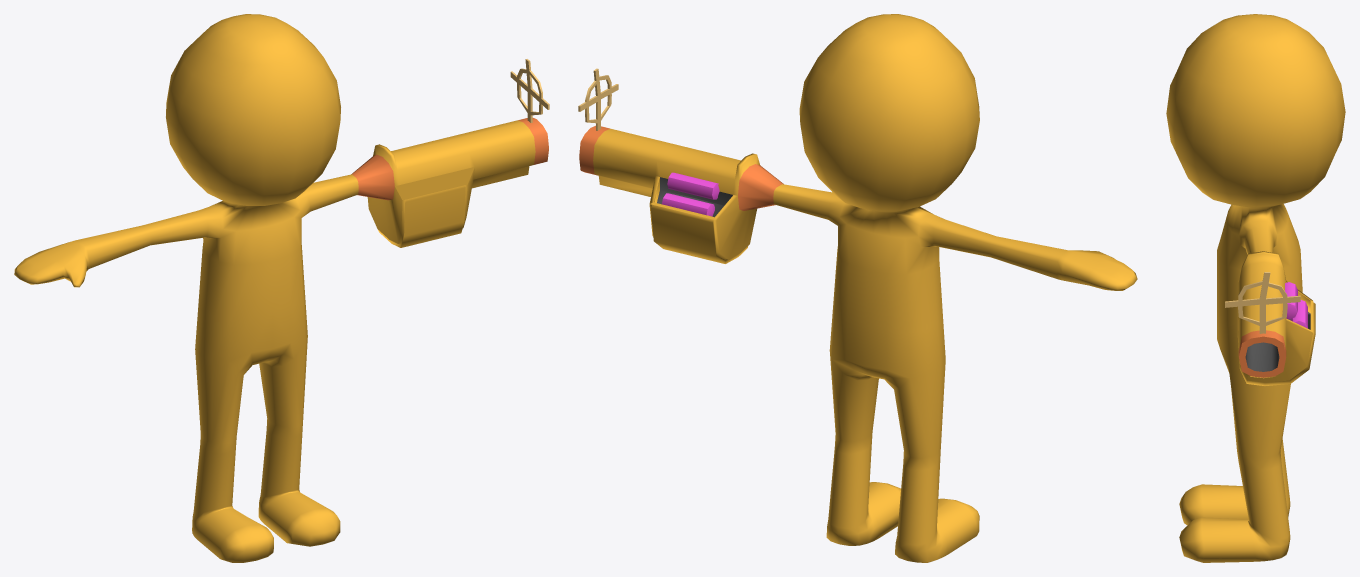
Rendered from Enemy2.fbx.
The picture shows the model from 3 angles, left to right: view 1: azimuth 30°, elevation 25°; view 2: azimuth 150°, elevation 25°; view 3: azimuth 270°, elevation 25°; orthographic projection. The views are drawn at different scales.
Parts seen in each view (by area): view 1: pCube4; view 2: pCube4; view 3: pCube4.
Boxes of the visible parts, left/top/right/bottom form: pCube4: left=14, top=14, right=549, bottom=562; pCube4: left=578, top=14, right=1137, bottom=562; pCube4: left=1166, top=14, right=1345, bottom=562.
Size of the model in its own units: 752 by 695 by 220.
